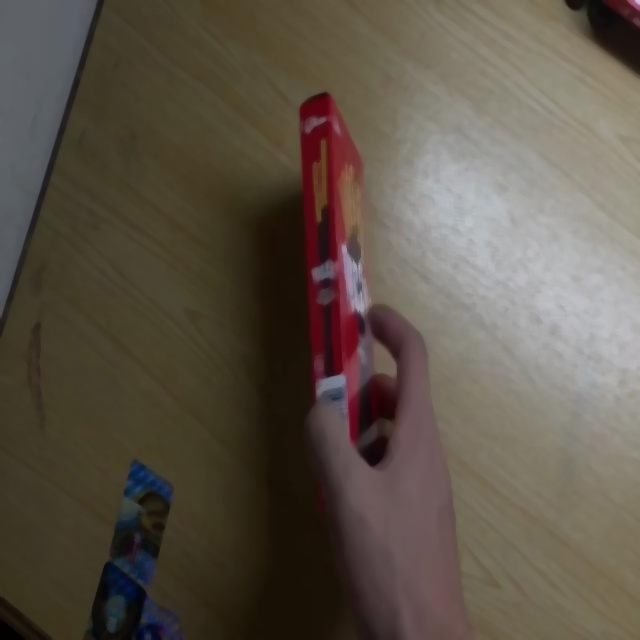Pocky: (298, 89, 384, 570)
